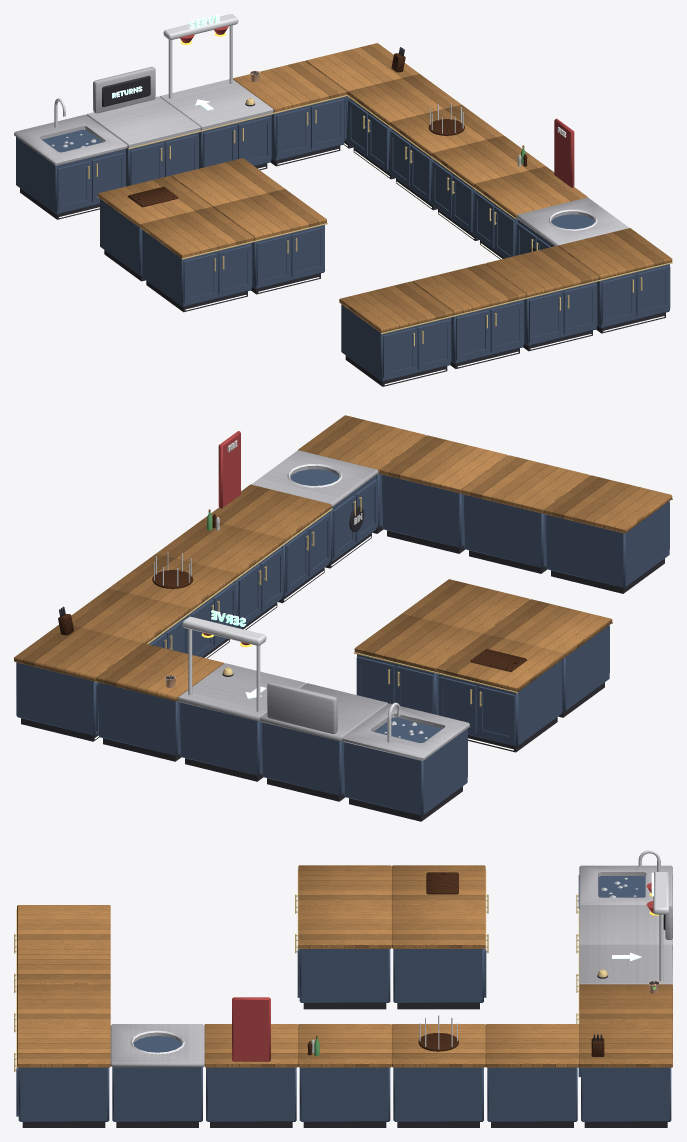
Rendered from kr_layD_st2.glb.
3 views of the same model, one above another, from view 1: azimuth 30°, elevation 25°; view 2: azimuth 150°, elevation 25°; view 3: azimuth 270°, elevation 25° (orthographic). The views are drawn at different scales.
Parts seen in each view (by area): view 1: vc_m0_r4, kr_layD_st2_butcher, kr_layD_st2_steel, vc_m8_r2, kr_layD_st2_darkwood, kr_layD_st2_warmglow; view 2: vc_m0_r4, kr_layD_st2_butcher, kr_layD_st2_steel, vc_m8_r2, kr_layD_st2_darkwood; view 3: vc_m0_r4, kr_layD_st2_butcher, kr_layD_st2_steel, vc_m8_r2, kr_layD_st2_darkwood.
Part boxes in pixels (x1,y1,x2,y2): vc_m0_r4: [16, 26, 670, 386]; kr_layD_st2_butcher: [98, 43, 672, 332]; kr_layD_st2_steel: [14, 66, 628, 246]; vc_m8_r2: [54, 14, 672, 345]; kr_layD_st2_darkwood: [128, 53, 527, 207]; kr_layD_st2_warmglow: [59, 143, 664, 385]; vc_m0_r4: [16, 431, 669, 821]; kr_layD_st2_butcher: [14, 415, 672, 701]; kr_layD_st2_steel: [178, 450, 469, 760]; vc_m8_r2: [95, 464, 672, 742]; kr_layD_st2_darkwood: [58, 514, 526, 671]; vc_m0_r4: [16, 875, 671, 1127]; kr_layD_st2_butcher: [17, 865, 672, 1067]; kr_layD_st2_steel: [110, 865, 672, 1067]; vc_m8_r2: [14, 850, 668, 1071]; kr_layD_st2_darkwood: [307, 872, 604, 1056].
Bounding box in the file's own units: 6 × 2.14 × 8.44.
Materials: 13 (4 with a texture image).
